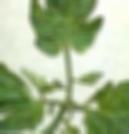Tomato leaf mosaic virus: (25, 0, 115, 60), (0, 55, 47, 134), (84, 79, 129, 134)
